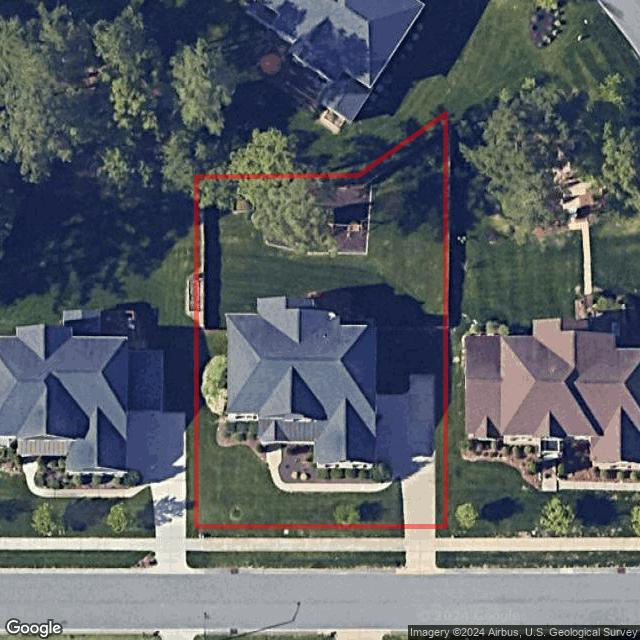Driveway: (379, 374, 436, 527)
Extra-Driveway: (404, 527, 436, 570)
Extra-Lawn: (195, 551, 405, 569), (197, 528, 405, 538), (435, 552, 449, 569), (435, 525, 446, 538)
Extra-Sidewalk: (196, 536, 406, 551), (435, 538, 447, 552)
House: (225, 294, 378, 463)
Lawn: (196, 114, 446, 526)
Other: (231, 182, 374, 256), (201, 353, 268, 466), (279, 444, 394, 484), (308, 287, 376, 325)
Sidewalk: (265, 443, 399, 493)
